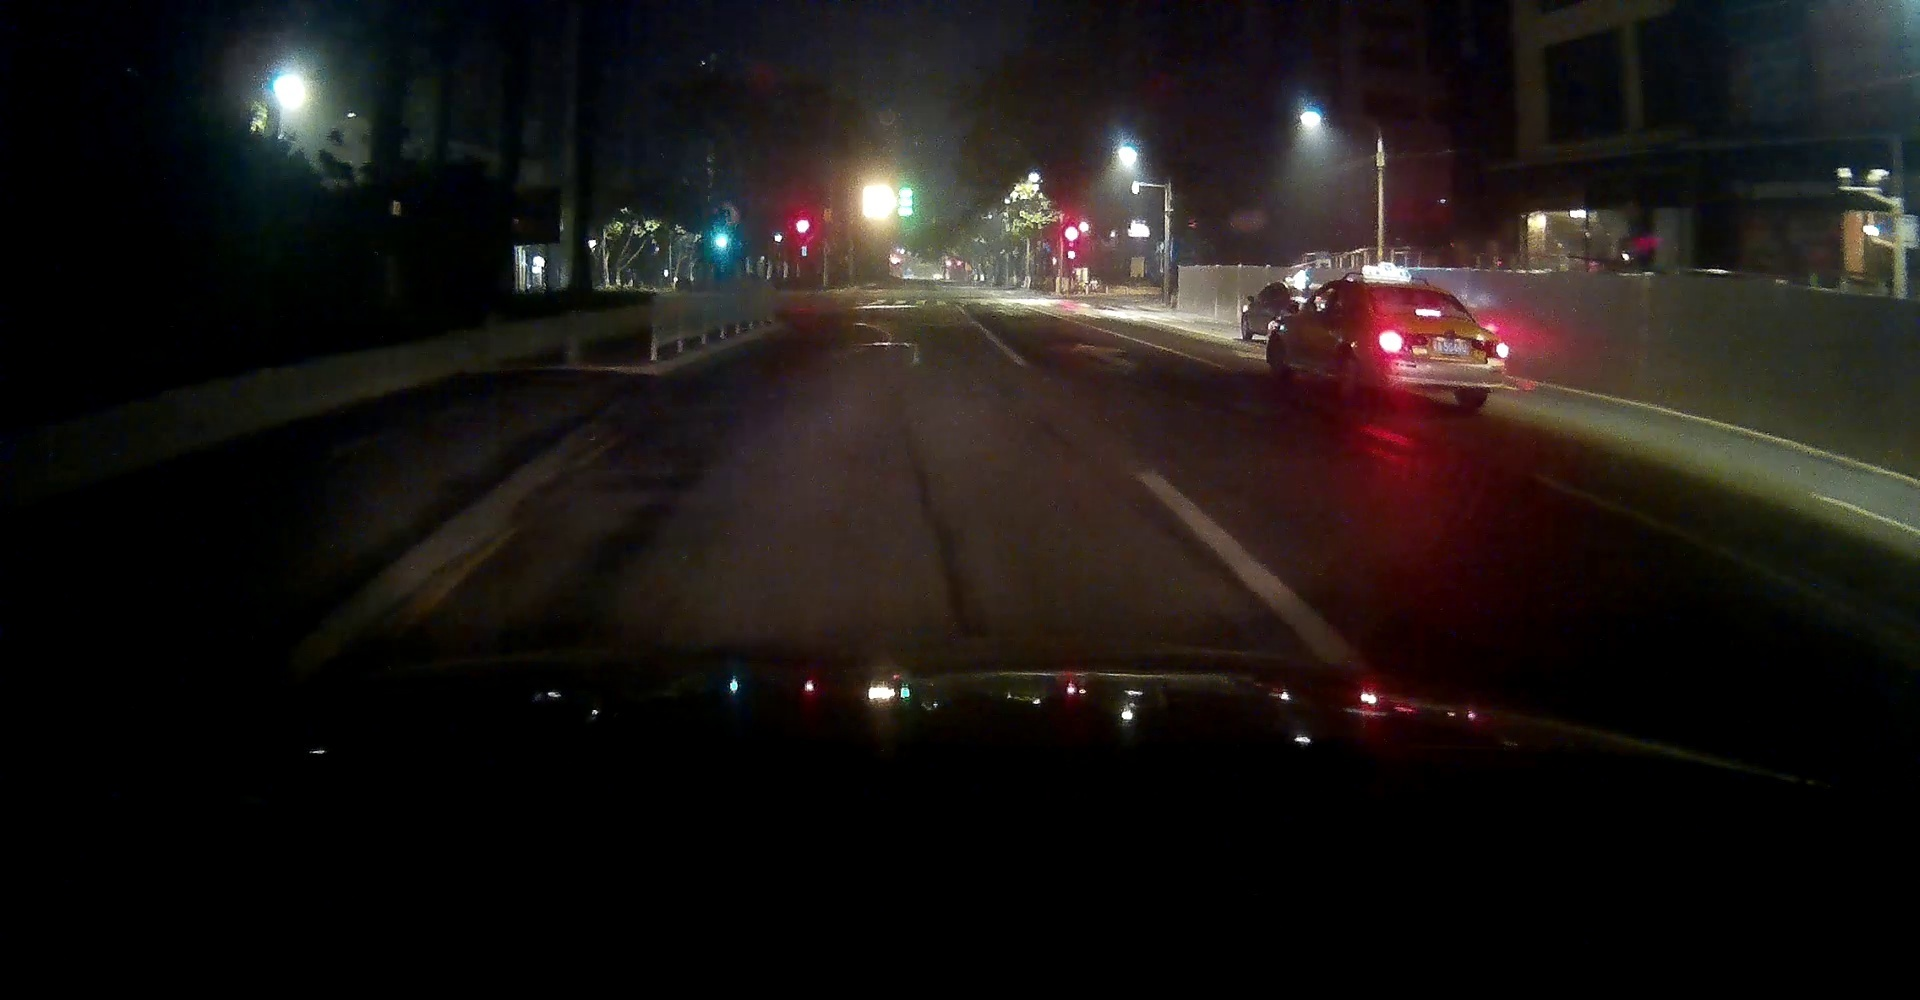L_light: (1375, 331, 1410, 354)
R_light: (1484, 341, 1507, 360)
T_light: (1415, 308, 1441, 317)
night-brake: (1368, 279, 1507, 411)
